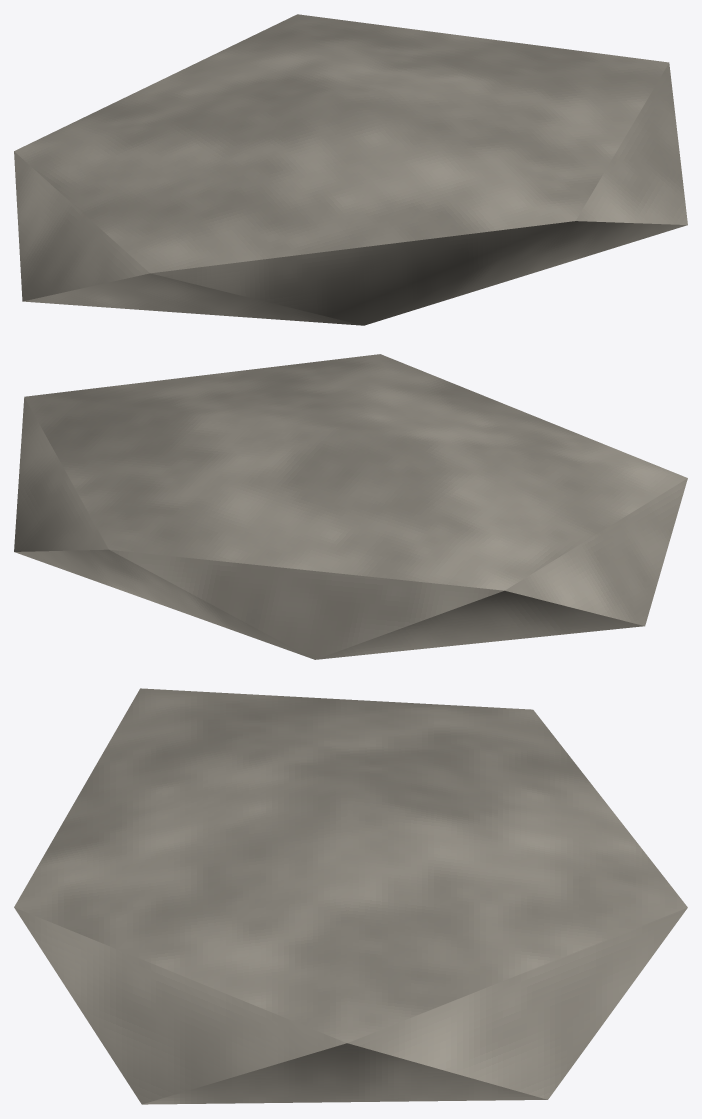
File: pedra_achatada.glb
3 renders of one model, top to bottom at view 1: azimuth 30°, elevation 25°; view 2: azimuth 150°, elevation 25°; view 3: azimuth 270°, elevation 25°, orthographic. The views are drawn at different scales.
Parts seen in each view (by area): view 1: Inteiro; view 2: Inteiro; view 3: Inteiro.
Part boxes in pixels (left/top/right/bottom): Inteiro: left=14, top=14, right=687, bottom=325; Inteiro: left=14, top=354, right=687, bottom=659; Inteiro: left=14, top=688, right=687, bottom=1104.
Bounding box in the file's own units: 1.94 × 0.4571 × 1.46.
Materials: 1 (1 with a texture image).
